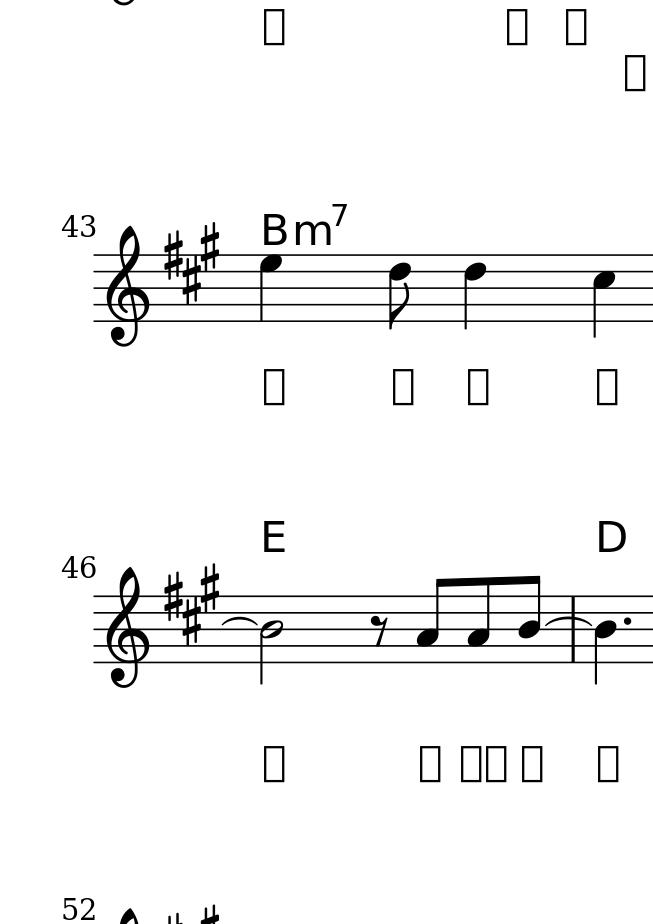2: (80, 897, 96, 923)
3: (80, 213, 96, 240)
4: (61, 213, 80, 239), (60, 553, 77, 580)
4_4: (592, 593, 620, 689)
4_5: (590, 252, 618, 342)
4_6: (461, 253, 487, 332)
4_7: (259, 251, 284, 325)
5: (61, 896, 76, 923)
6: (79, 554, 96, 581)
7: (330, 201, 348, 228)
8_3: (416, 576, 448, 667), (466, 578, 494, 666)
8_4: (518, 573, 544, 667)
8_6: (387, 249, 412, 331)
Gclef: (105, 223, 151, 348), (105, 563, 150, 690)
Rests8: (368, 614, 392, 648)
Slur: (547, 615, 592, 627), (220, 616, 257, 627)
Tbn: (259, 593, 287, 685)
dot: (618, 610, 635, 632), (619, 615, 632, 627)
